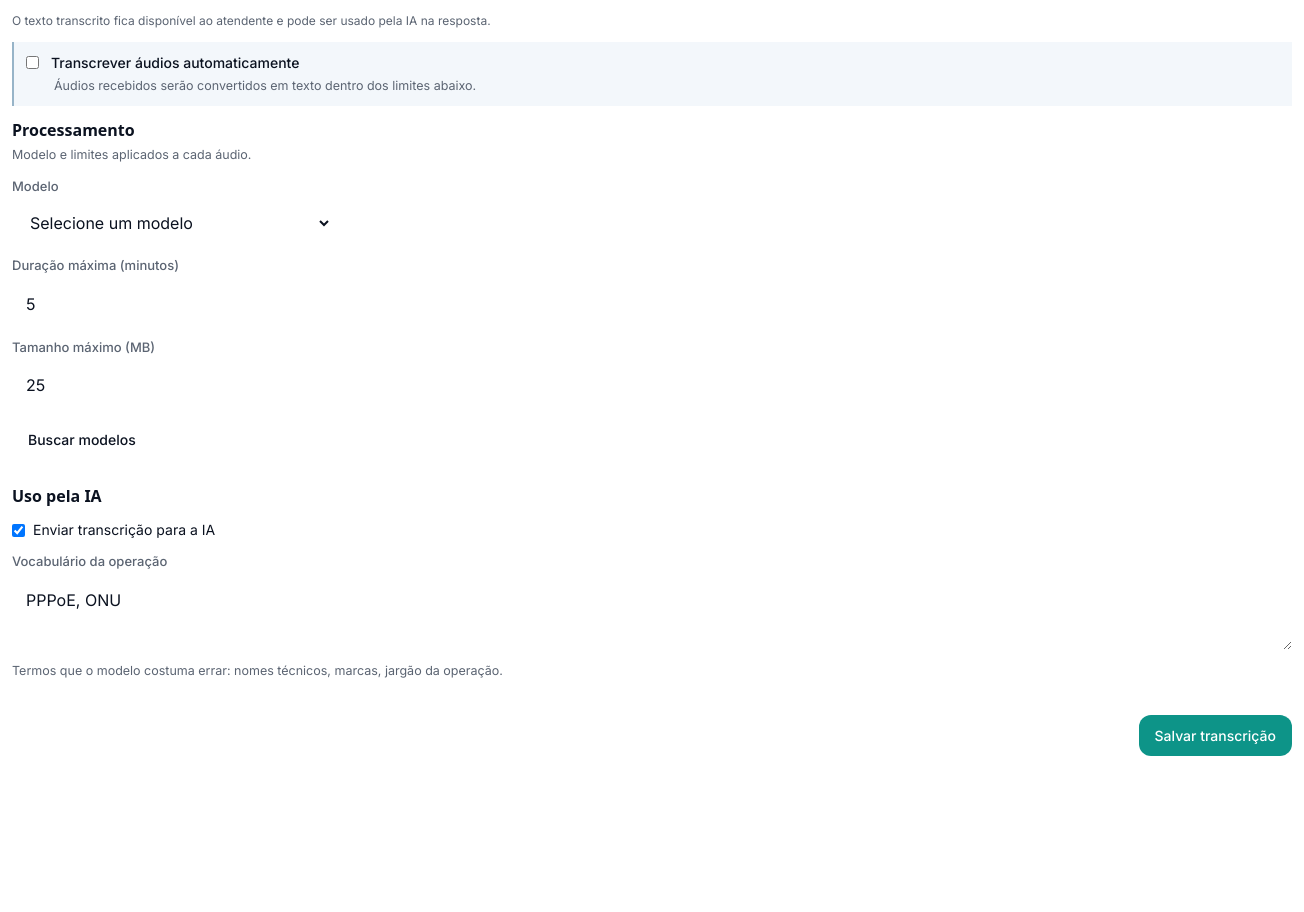
Test: AudioTranscriptionConfigCard › não deixa salvar habilitado sem modelo
Click the checkbox labelled "Transcrever áudios automaticamente": (32, 62) [26,56,39,69]
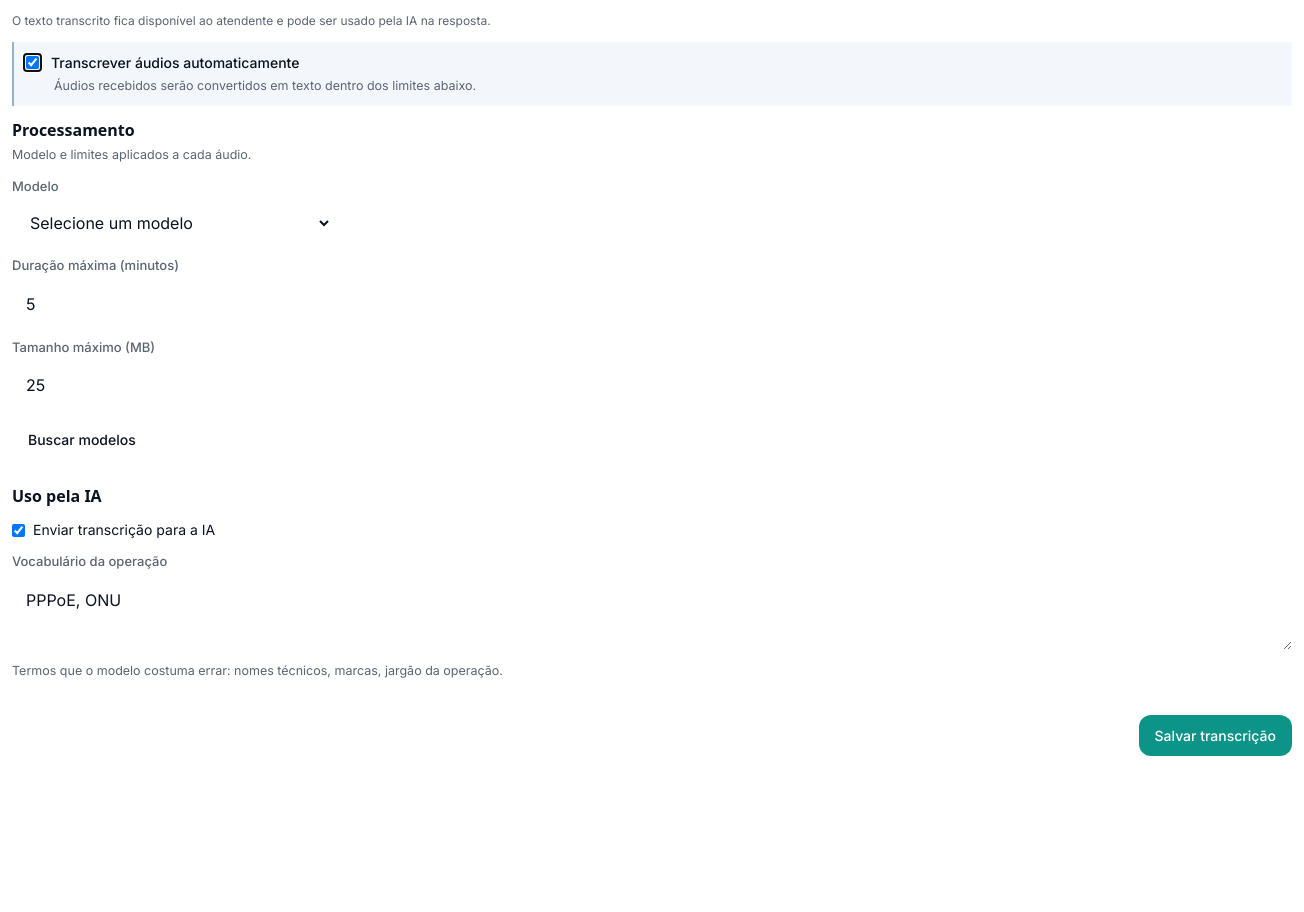
Click the button "Salvar transcrição": (1215, 735) [1138,714,1292,756]
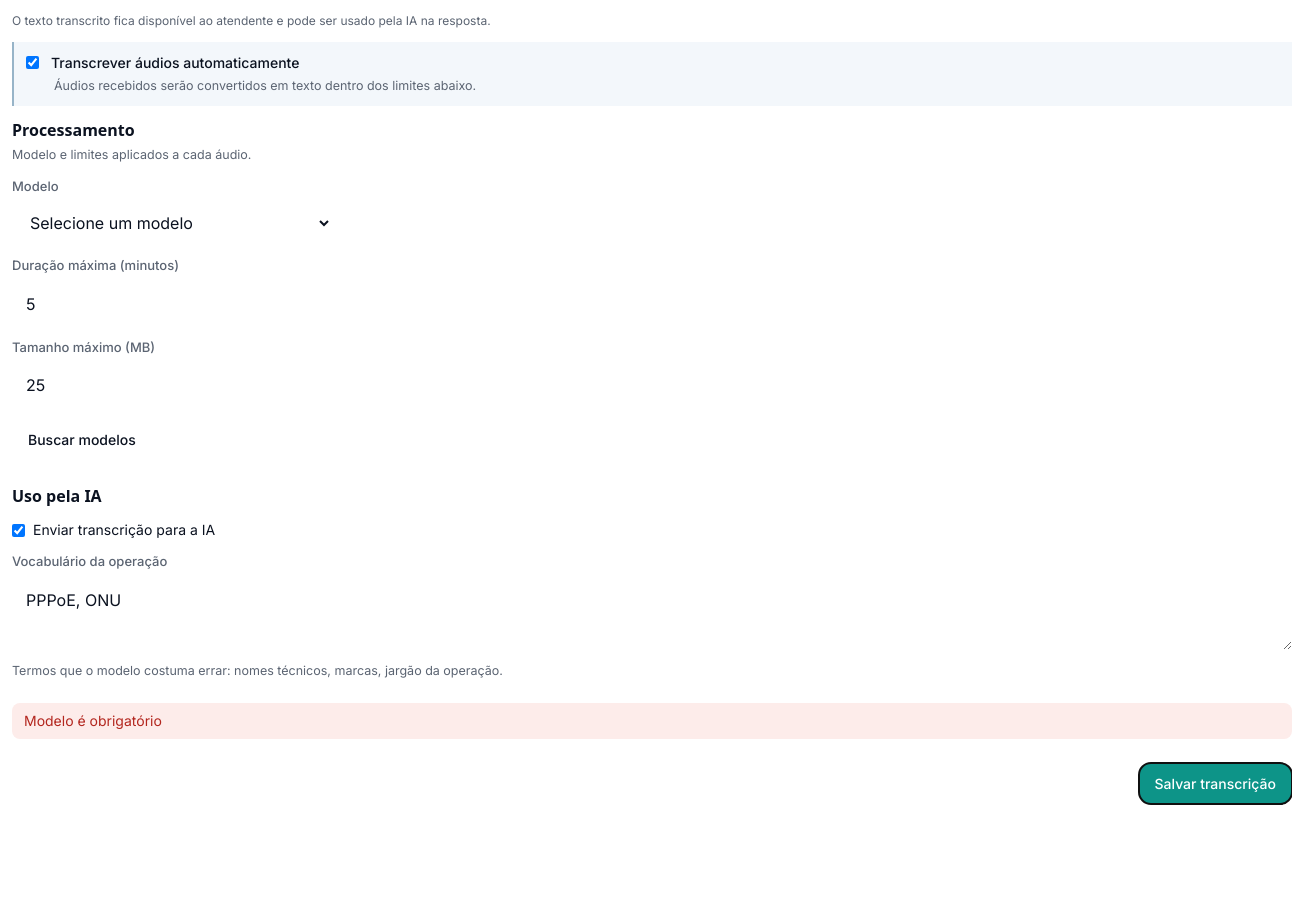
Expected: the text "Modelo é obrigatório" is shown, [12,702,1292,738]
